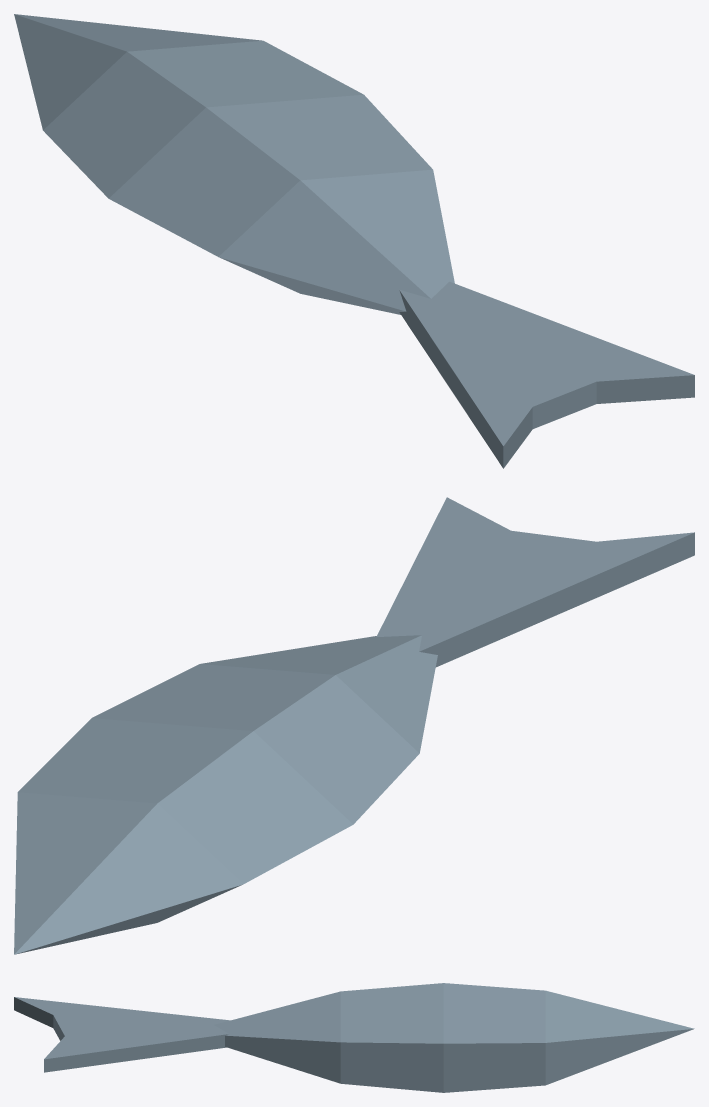
Rendered from Fish_1.fbx.
3 views of the same model, one above another, from view 1: azimuth 30°, elevation 25°; view 2: azimuth 150°, elevation 25°; view 3: azimuth 270°, elevation 25° (orthographic). The views are drawn at different scales.
Parts seen in each view (by area): view 1: Fish_1; view 2: Fish_1; view 3: Fish_1.
Part boxes in pixels (x1=…): Fish_1: x1=14, y1=14, x2=694, y2=468; Fish_1: x1=14, y1=497, x2=694, y2=954; Fish_1: x1=14, y1=983, x2=694, y2=1092.
Bounding box in the file's own units: 9.5 × 4.8 × 37.16.
Materials: 1 (1 with a texture image).
